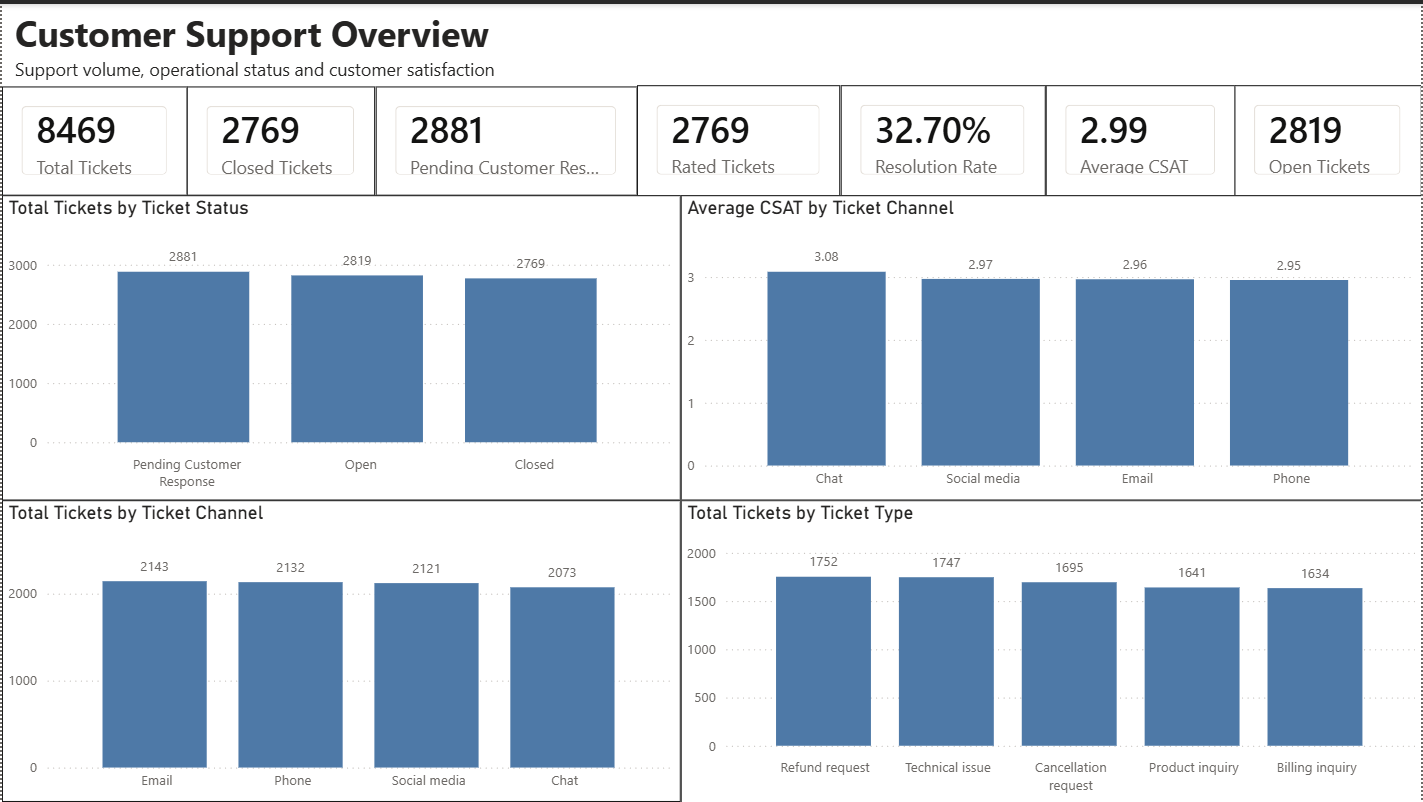

The page's visual inventory and layout, read from the dashboard file:
{"tool":"powerbi","page":{"name":"Customer Support Overview","canvas":[1280,720],"ordinal":0},"visuals":[{"type":"cardVisual","fields":{"Data":["Measures (2).Closed Tickets"]},"box":[167.1,74.1,169.8,98.4],"z":0},{"type":"cardVisual","fields":{"Data":["Measures (2).Average CSAT"]},"box":[940.7,72.8,171.2,99.7],"z":1000},{"type":"cardVisual","fields":{"Data":["Measures (2).Open Tickets"]},"box":[1111.8,72.8,168.5,99.7],"z":2000},{"type":"cardVisual","title":"Pending Tickets","fields":{"Data":["Measures (2).Pending Customer Response"]},"box":[336.9,74.1,235.8,98.4],"z":3000},{"type":"cardVisual","fields":{"Data":["Measures (2).Rated Tickets"]},"box":[572.8,72.8,183.3,99.7],"z":4000},{"type":"cardVisual","fields":{"Data":["Measures (2).Resolution Rate"]},"box":[756,72.8,184.6,99.7],"z":5000},{"type":"cardVisual","fields":{"Data":["Measures (2).Total Tickets"]},"box":[0,74.1,167.1,98.4],"z":6000},{"type":"clusteredColumnChart","fields":{"Category":["customer_support_tickets.Ticket Status"],"Y":["Measures (2).Total Tickets"]},"box":[0,172.5,611.8,274.9],"z":7000},{"type":"clusteredColumnChart","fields":{"Category":["customer_support_tickets.Ticket Channel"],"Y":["Measures (2).Total Tickets"]},"box":[0,447.4,611.8,272.2],"z":8000},{"type":"clusteredColumnChart","fields":{"Y":["Measures (2).Total Tickets"],"Category":["customer_support_tickets.Ticket Type"]},"box":[611.8,447.4,668.4,273.6],"z":9000},{"type":"clusteredColumnChart","fields":{"Category":["customer_support_tickets.Ticket Channel"],"Y":["Measures (2).Average CSAT"]},"box":[611.8,172.5,668.4,274.9],"z":10000},{"type":"textbox","box":[7.2,0,498.5,73.7],"z":11000}]}

Visuals, with their boxes in screenshot pixels (x1, y1, x2, y2), scaled from the page's 1280x720 canvas onto the 1423x802 screenshot:
cardVisual - Measures (2).Closed Tickets: <region>186, 83, 375, 192</region>
cardVisual - Measures (2).Average CSAT: <region>1046, 81, 1236, 192</region>
cardVisual - Measures (2).Open Tickets: <region>1236, 81, 1422, 192</region>
"Pending Tickets" cardVisual: <region>375, 83, 637, 192</region>
cardVisual - Measures (2).Rated Tickets: <region>637, 81, 841, 192</region>
cardVisual - Measures (2).Resolution Rate: <region>840, 81, 1046, 192</region>
cardVisual - Measures (2).Total Tickets: <region>0, 83, 186, 192</region>
clusteredColumnChart - customer_support_tickets.Ticket Status x Measures (2).Total Tickets: <region>0, 192, 680, 498</region>
clusteredColumnChart - customer_support_tickets.Ticket Channel x Measures (2).Total Tickets: <region>0, 498, 680, 801</region>
clusteredColumnChart - Measures (2).Total Tickets x customer_support_tickets.Ticket Type: <region>680, 498, 1422, 801</region>
clusteredColumnChart - customer_support_tickets.Ticket Channel x Measures (2).Average CSAT: <region>680, 192, 1422, 498</region>
textbox: <region>8, 0, 562, 82</region>
